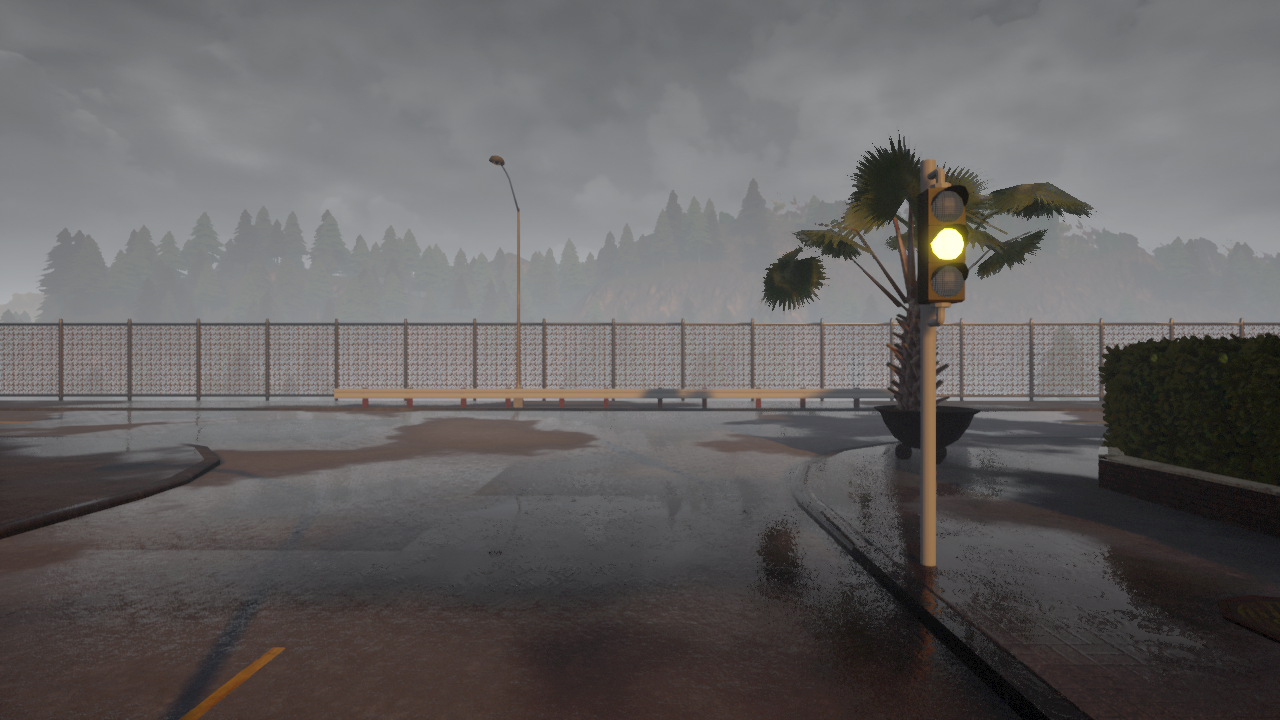yellow: (920, 180, 972, 305)
